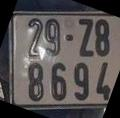-: (65, 34, 75, 43)
2: (28, 17, 43, 58)
4: (97, 61, 112, 103)
6: (51, 63, 68, 102)
8: (27, 63, 45, 101), (96, 19, 110, 58)
9: (73, 63, 91, 102), (44, 18, 61, 57)
Z: (78, 17, 95, 57)
